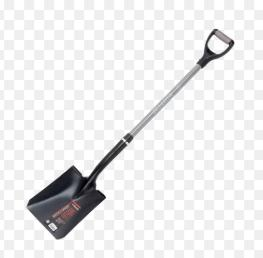PELLE: (19, 13, 263, 246)
